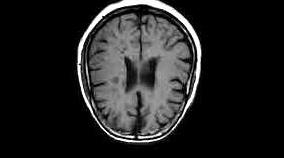Normal_Brain: (68, 1, 216, 158)
